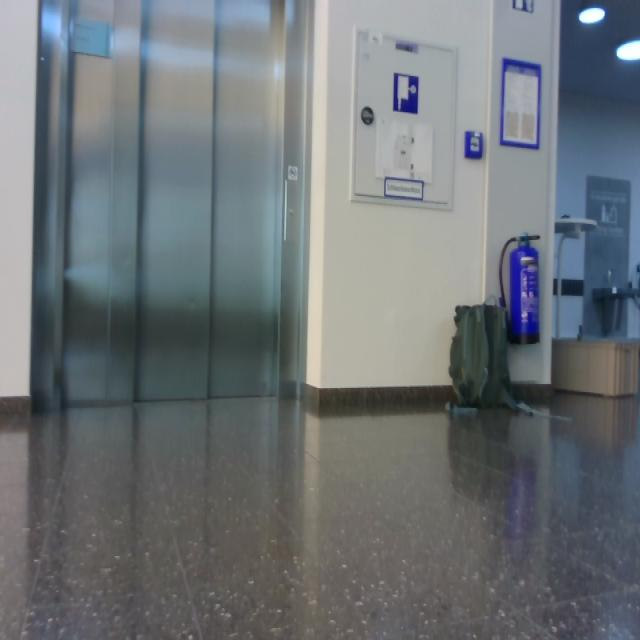door: (31, 1, 312, 410)
fire extinguisher: (499, 232, 541, 345)
light bulb: (616, 39, 640, 63), (578, 6, 606, 25), (612, 287, 618, 295)
tiled floor: (1, 388, 639, 638)
